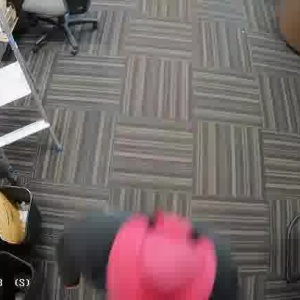person: (83, 193, 221, 300)
